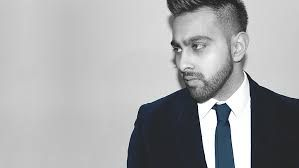no-mask: (157, 13, 248, 103)
